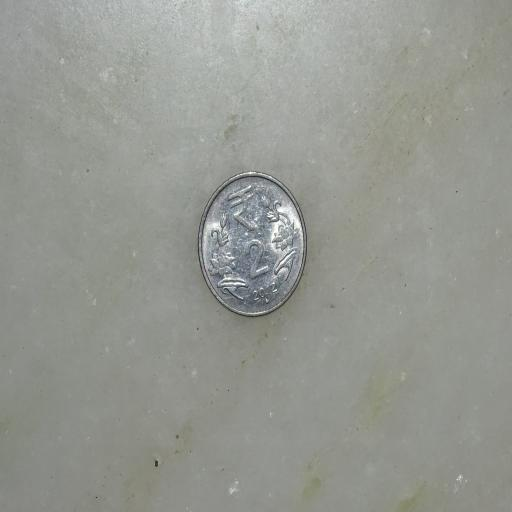rupee2: (196, 169, 309, 317)
